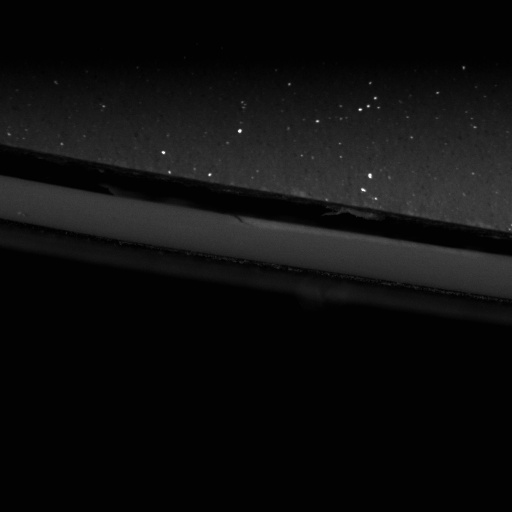kaijiao: (0, 137, 511, 306)
